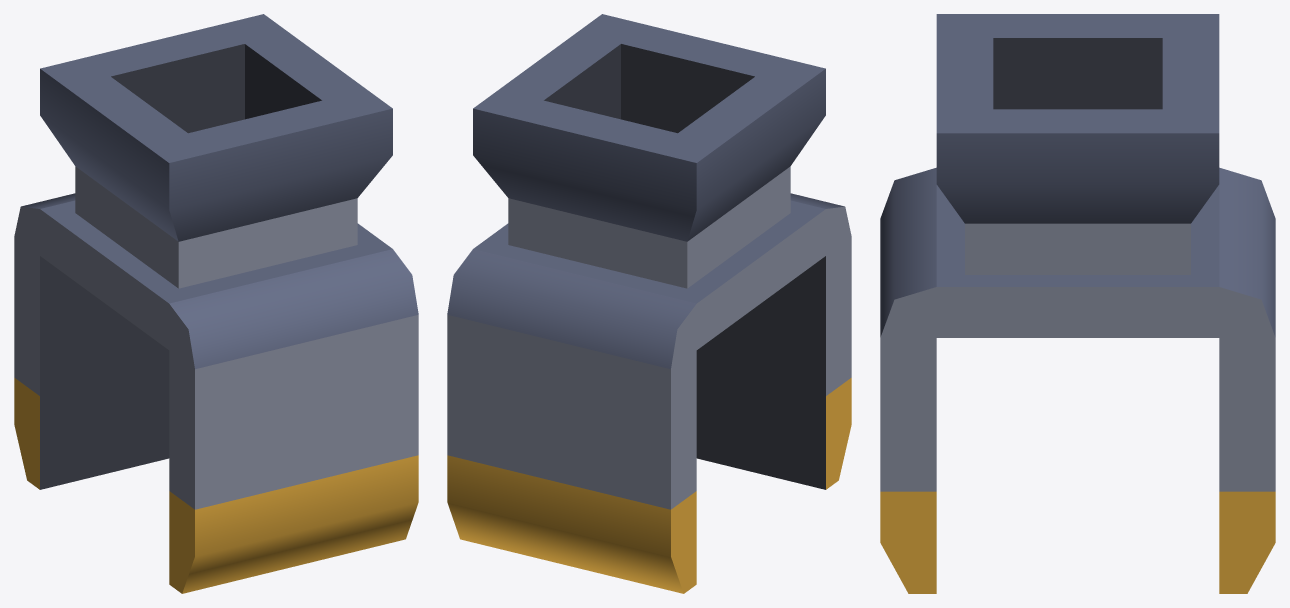
File: CoverStripeHopper-transformed.glb
The picture shows the model from 3 angles, left to right: view 1: azimuth 30°, elevation 25°; view 2: azimuth 150°, elevation 25°; view 3: azimuth 270°, elevation 25°; orthographic projection. The views are drawn at different scales.
Visible parts, largest first — view 1: cover-stripe-hopper; view 2: cover-stripe-hopper; view 3: cover-stripe-hopper.
Part boxes in pixels (x1,y1,x2,y2): cover-stripe-hopper: (14,14,418,593); cover-stripe-hopper: (447,14,851,593); cover-stripe-hopper: (880,14,1275,593).
Bounding box in the file's own units: 1 × 1.8 × 1.4.
